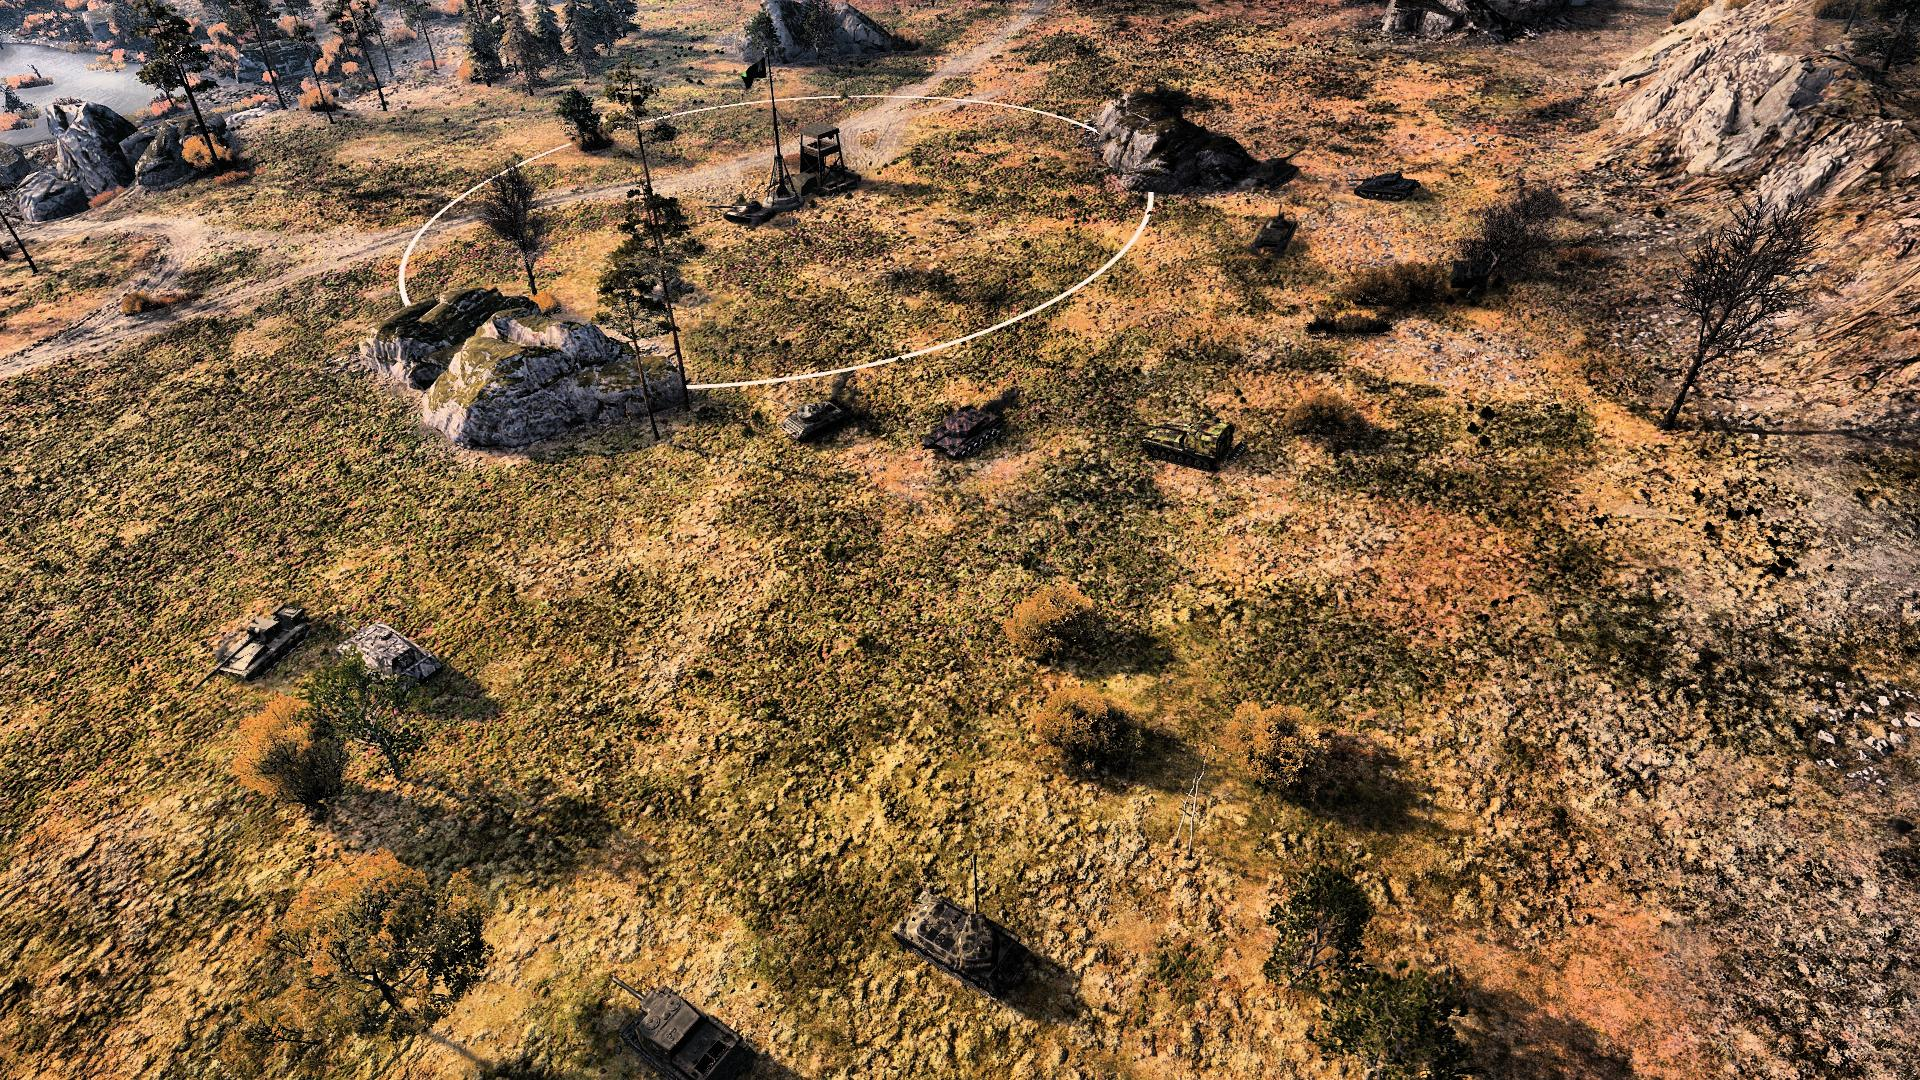military-vehicle: (897, 852, 1040, 1002), (605, 971, 740, 1080), (202, 604, 311, 684), (340, 621, 438, 690), (1133, 409, 1237, 472), (918, 400, 1002, 462), (771, 392, 858, 442), (1345, 160, 1422, 202), (1250, 194, 1303, 255)
